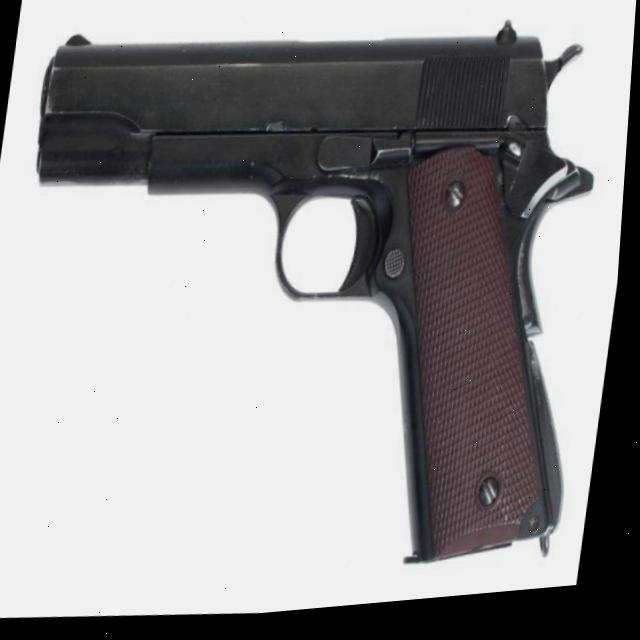gun: (34, 21, 595, 565)
